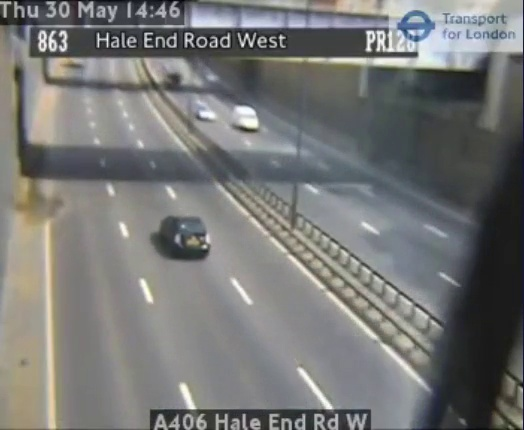car: (161, 216, 210, 258)
